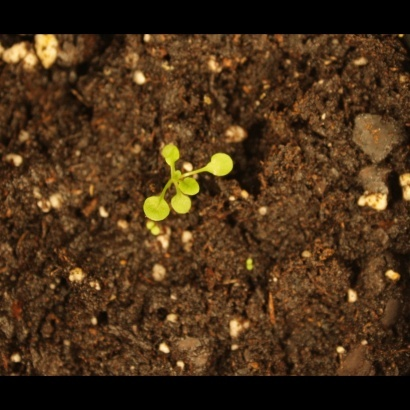leaf: (139, 191, 173, 230), (206, 148, 241, 181), (153, 140, 185, 166), (169, 190, 194, 216), (179, 175, 202, 198)
